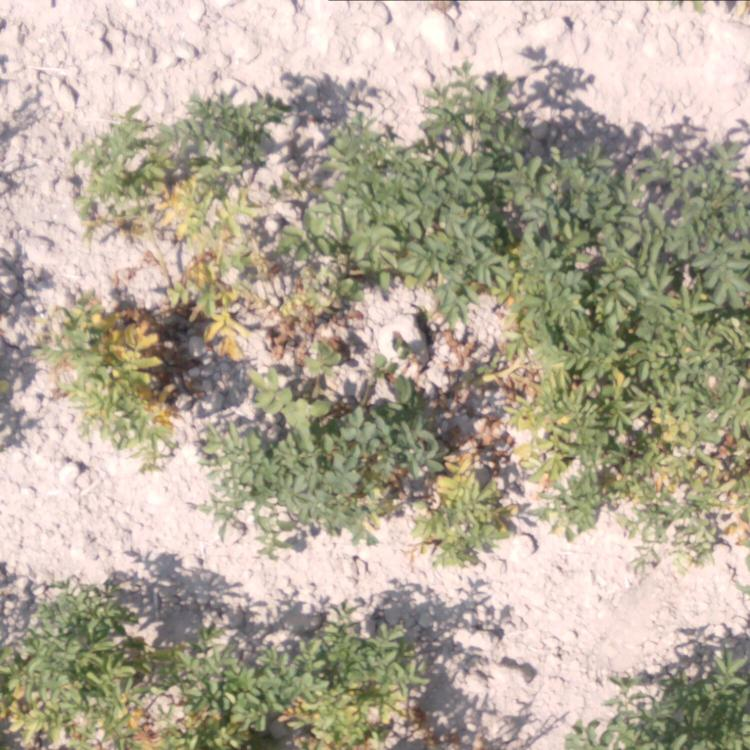healthy: (512, 71, 655, 299), (326, 103, 496, 282), (220, 386, 391, 529), (587, 646, 750, 750), (676, 127, 750, 355), (526, 305, 662, 355)
stressed: (1, 574, 181, 746), (73, 96, 285, 237), (38, 291, 193, 454), (622, 361, 747, 550), (401, 390, 510, 575), (289, 623, 421, 750), (193, 246, 330, 366), (520, 370, 612, 529), (196, 616, 283, 750), (446, 317, 512, 387)
